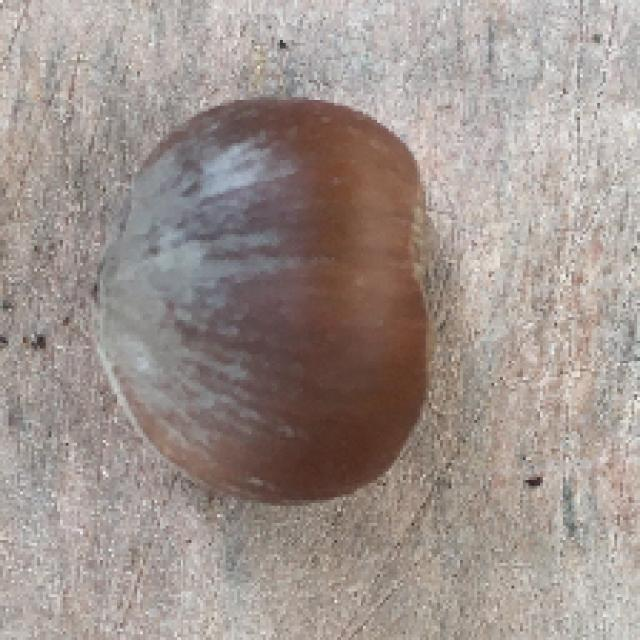qualityHazelnut: (88, 99, 447, 494)
